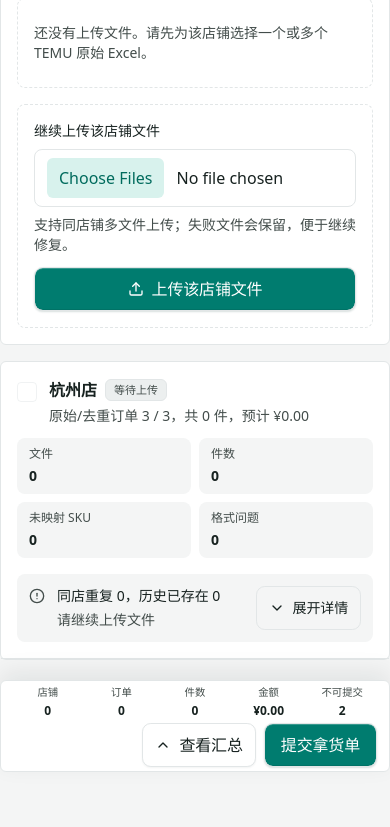
Scenario: BulkOrderWorkspace › collapses mobile details for idle store cards after the first one
The width and height of the screenshot is (390, 827).
(page scrolled)
Click the button "展开详情" at (308, 608), box top-left (256, 586), bottom-right (361, 630)
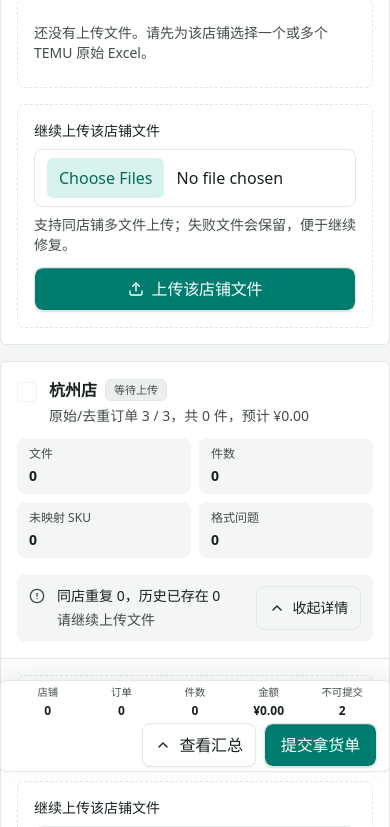
Expected: the button "收起详情" is shown, top-left (256, 586), bottom-right (361, 630)
